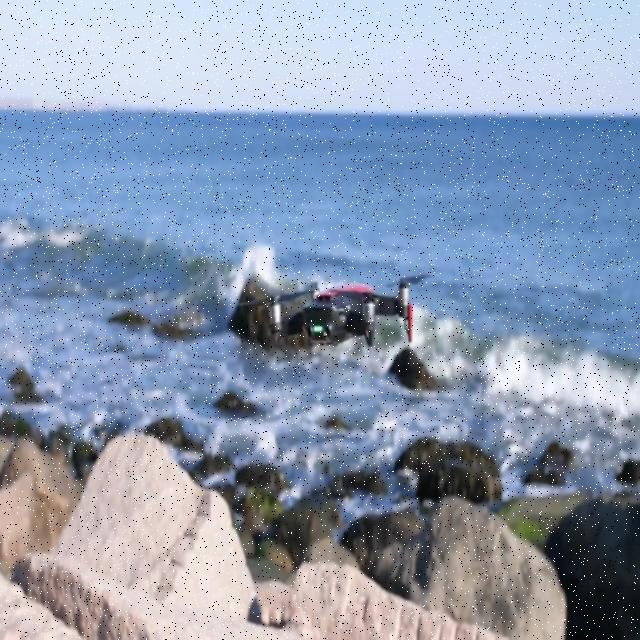UAV: (238, 274, 436, 348)
